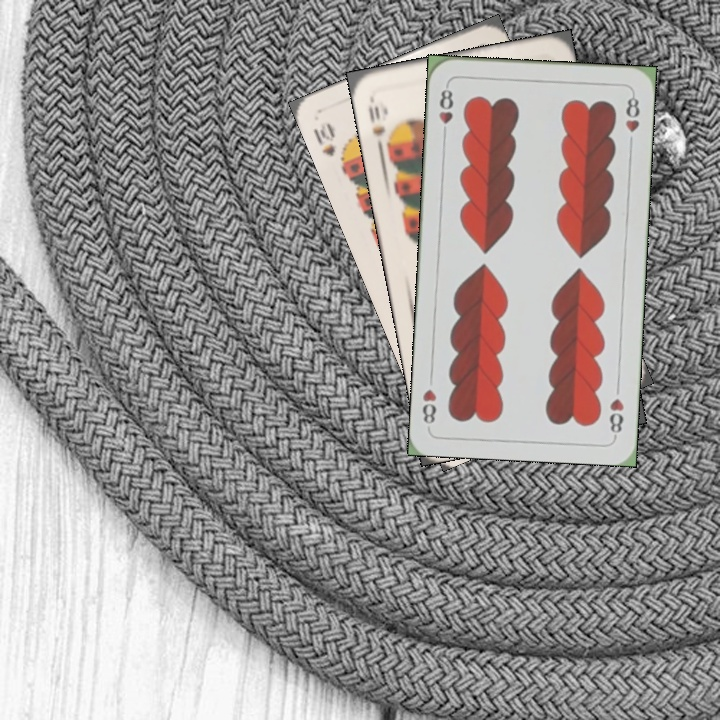H8: (435, 81, 456, 140), (605, 394, 626, 439)
S10: (309, 119, 349, 171), (364, 102, 388, 152)
